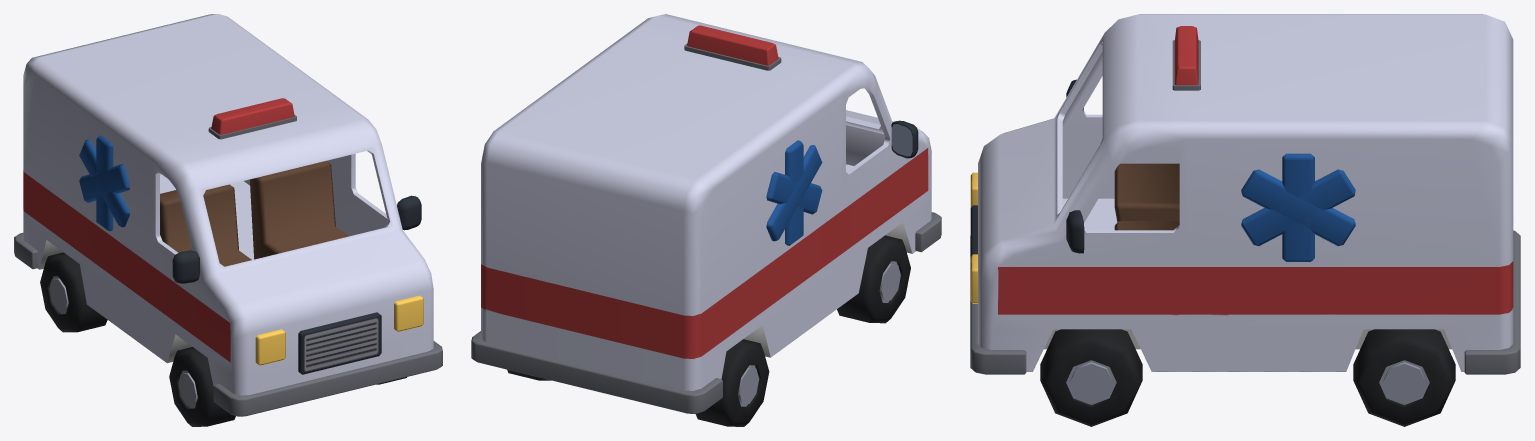
Rendered from Ambulance.fbx.
The picture shows the model from 3 angles, left to right: view 1: azimuth 30°, elevation 25°; view 2: azimuth 150°, elevation 25°; view 3: azimuth 270°, elevation 25°; orthographic projection. The views are drawn at different scales.
Parts seen in each view (by area): view 1: Ambulance_body, Ambulance_rear_wheel_R, Ambulance_front_wheel_R; view 2: Ambulance_body, Ambulance_front_wheel_R, Ambulance_rear_wheel_R; view 3: Ambulance_body, Ambulance_front_wheel_L, Ambulance_rear_wheel_L.
Boxes of the visible parts, x1,y1,x2,y2 form: Ambulance_body: [14, 14, 442, 416]; Ambulance_rear_wheel_R: [40, 252, 107, 332]; Ambulance_front_wheel_R: [169, 347, 235, 426]; Ambulance_body: [471, 14, 941, 413]; Ambulance_front_wheel_R: [837, 235, 910, 323]; Ambulance_rear_wheel_R: [695, 339, 769, 426]; Ambulance_body: [970, 14, 1520, 374]; Ambulance_front_wheel_L: [1040, 329, 1142, 426]; Ambulance_rear_wheel_L: [1353, 329, 1455, 426].
Bounding box in the file's own units: 14.55 × 15 × 23.26.
Materials: 1 (1 with a texture image).
